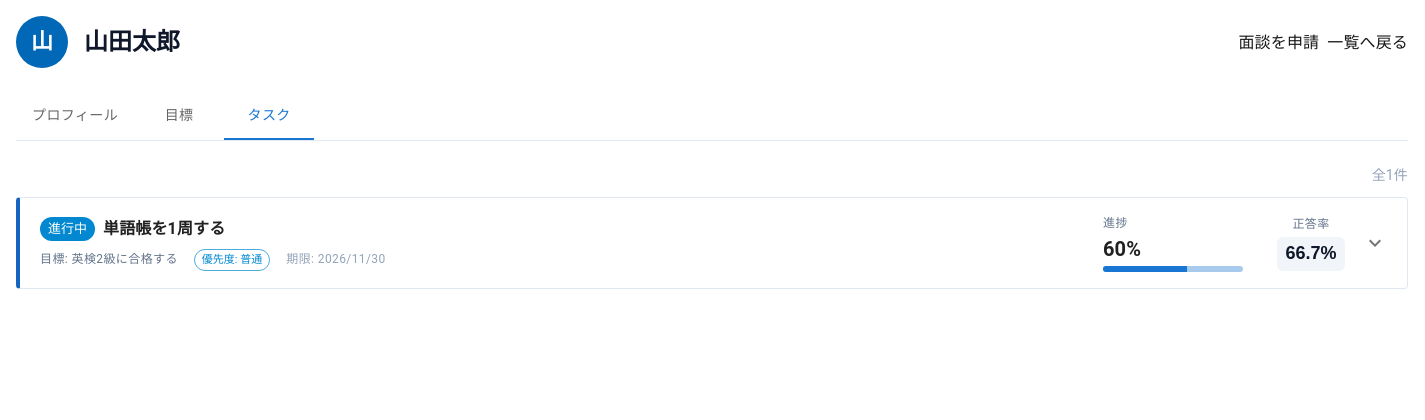
Test: StudentDetailPresenter › タスクのUnit別の解答状況 › 未解答のUnitは正答率に「-」が表示される
Click the heading "単語帳を1周する".
click(164, 229)  # box [103,215,225,243]
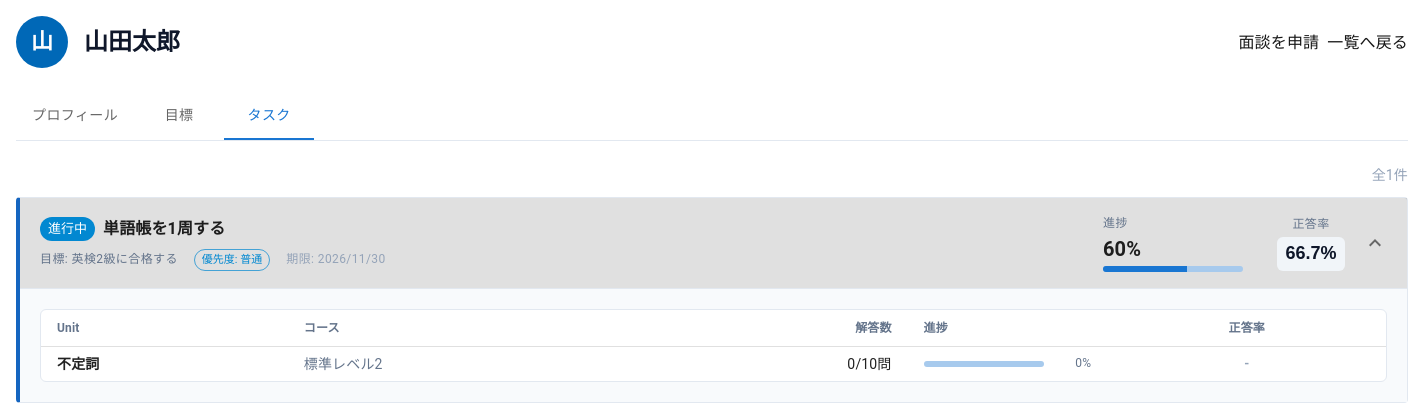
Expected: the text "-" is shown, [1244,356,1249,371]
Expected: the text "0/10問" is shown, [655,346,908,381]
